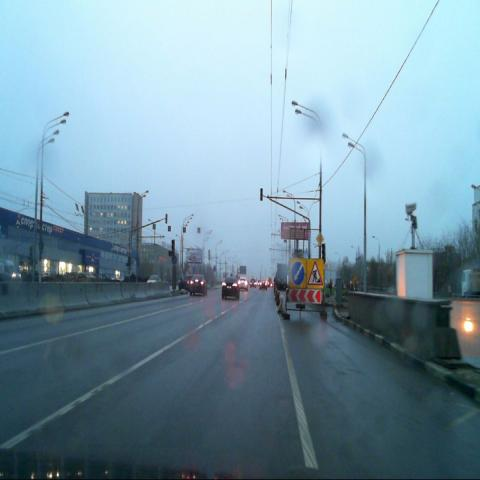4_2_2: (290, 258, 306, 288)
